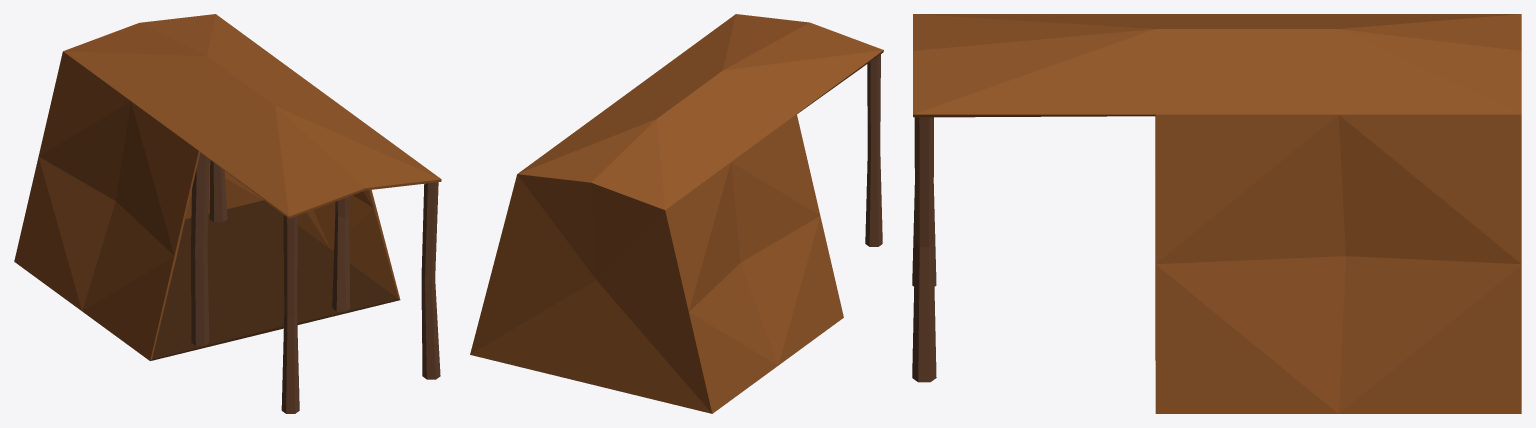
The model's file is Tent_4_Orange.fbx.
3 renders of one model, left to right at view 1: azimuth 30°, elevation 25°; view 2: azimuth 150°, elevation 25°; view 3: azimuth 270°, elevation 25°, orthographic. The views are drawn at different scales.
Parts seen in each view (by area): view 1: Tent_4_Orange_Part_2, Tent_4_Orange_Part_3, Tent_4_Orange_Part_1, Tent_4_Orange_Part_4, Tent_4_Orange_Part_8, Tent_4_Orange_Part_6, Tent_4_Orange_Part_7, Tent_4_Orange_Part_9, Tent_4_Orange_Part_11, Tent_4_Orange_Part_5; view 2: Tent_4_Orange_Part_5, Tent_4_Orange_Part_2, Tent_4_Orange_Part_3, Tent_4_Orange_Part_7; view 3: Tent_4_Orange_Part_4, Tent_4_Orange_Part_2, Tent_4_Orange_Part_6.
Boxes of the visible parts, left/top/right/bottom form: Tent_4_Orange_Part_2: left=63, top=14, right=441, bottom=218; Tent_4_Orange_Part_3: left=14, top=51, right=200, bottom=360; Tent_4_Orange_Part_1: left=151, top=200, right=399, bottom=360; Tent_4_Orange_Part_4: left=264, top=190, right=400, bottom=299; Tent_4_Orange_Part_8: left=191, top=152, right=209, bottom=345; Tent_4_Orange_Part_6: left=421, top=182, right=440, bottom=379; Tent_4_Orange_Part_7: left=281, top=215, right=299, bottom=413; Tent_4_Orange_Part_9: left=332, top=196, right=350, bottom=311; Tent_4_Orange_Part_11: left=209, top=160, right=227, bottom=222; Tent_4_Orange_Part_5: left=185, top=160, right=263, bottom=219; Tent_4_Orange_Part_5: left=470, top=174, right=712, bottom=413; Tent_4_Orange_Part_2: left=517, top=14, right=883, bottom=209; Tent_4_Orange_Part_3: left=665, top=114, right=843, bottom=413; Tent_4_Orange_Part_7: left=865, top=54, right=882, bottom=246; Tent_4_Orange_Part_4: left=1155, top=114, right=1521, bottom=413; Tent_4_Orange_Part_2: left=913, top=14, right=1521, bottom=117; Tent_4_Orange_Part_6: left=912, top=117, right=936, bottom=382.
Bounding box in the file's own units: 320 × 274 × 501.
